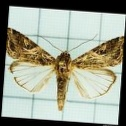Spodoptera litura: (4, 30, 121, 111)
